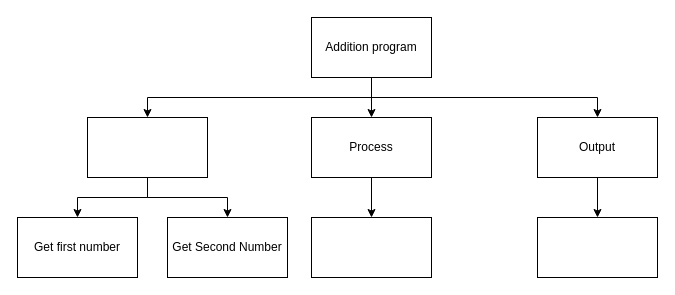
Image size: 675x295. Some labels were removed from this diagram. Here are the shapes that lost their labels. From the top down, the box of each, then its label:
(86, 116, 208, 178): Input
(310, 216, 432, 278): Add first and second number to get total
(536, 216, 658, 278): Show total
